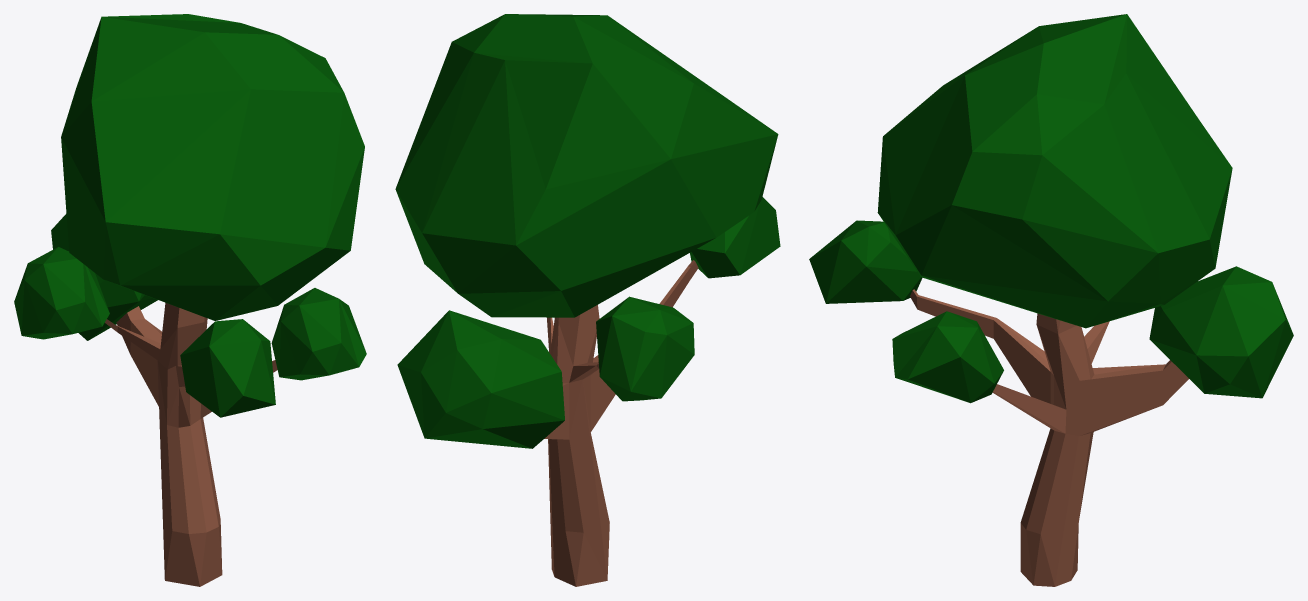
Rendered from tree2.fbx.
3 views of the same model, side by side, from view 1: azimuth 30°, elevation 25°; view 2: azimuth 150°, elevation 25°; view 3: azimuth 270°, elevation 25° (orthographic). The views are drawn at different scales.
Visible parts, largest first — view 1: Leaves, Trunk; view 2: Leaves, Trunk; view 3: Leaves, Trunk.
Part boxes in pixels (x1,y1,x2,y2): Leaves: (14, 14, 366, 417); Trunk: (105, 302, 277, 586); Leaves: (395, 14, 780, 448); Trunk: (544, 260, 698, 586); Leaves: (809, 14, 1293, 403); Trunk: (910, 289, 1188, 586).
Size of the model in its own units: 3.38 by 6.15 by 5.03.
